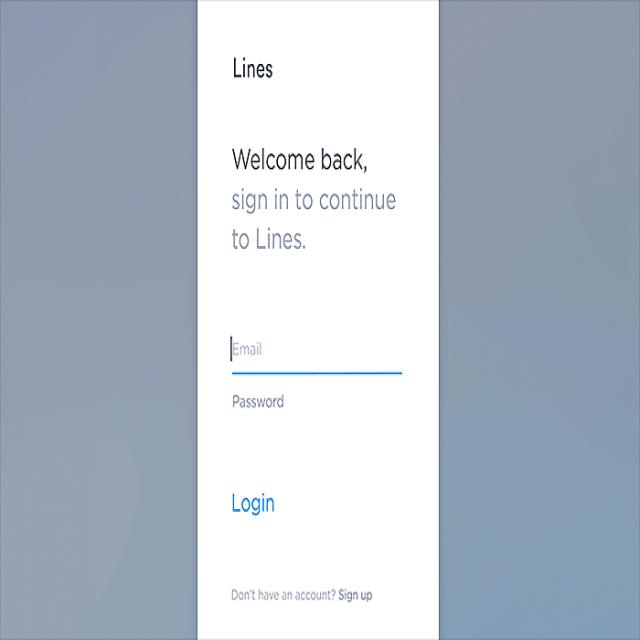Container: (189, 0, 446, 640)
Input-field: (225, 334, 412, 388)
Text: (227, 140, 402, 286), (228, 583, 378, 611), (229, 49, 278, 88), (230, 488, 281, 520)
